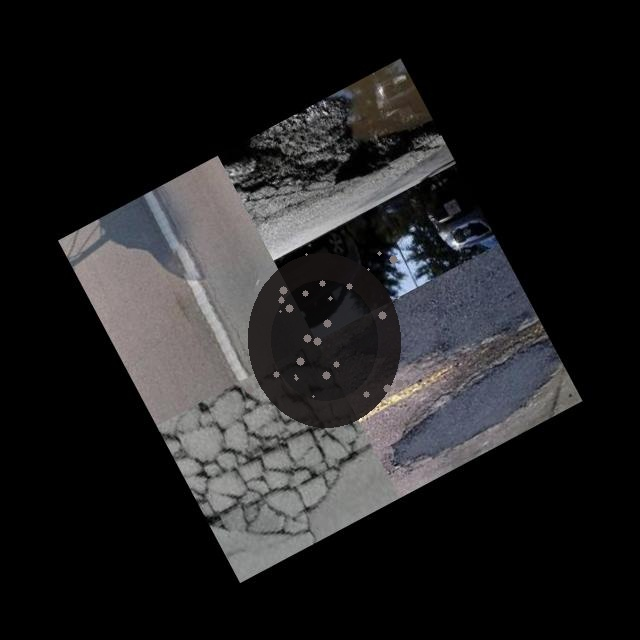pothole: (243, 248, 405, 432)
